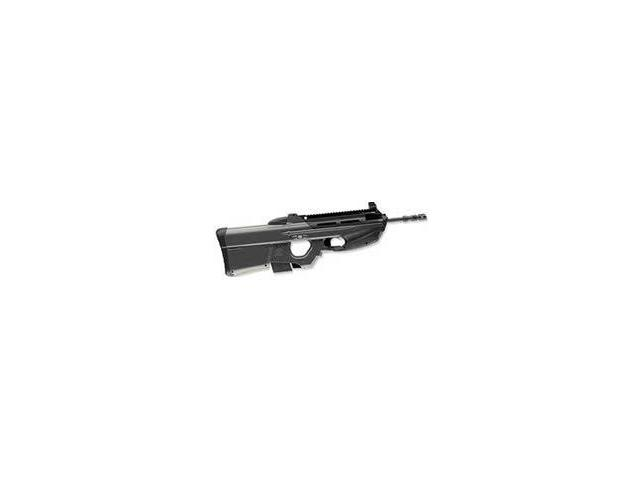rifle: (214, 202, 431, 278)
